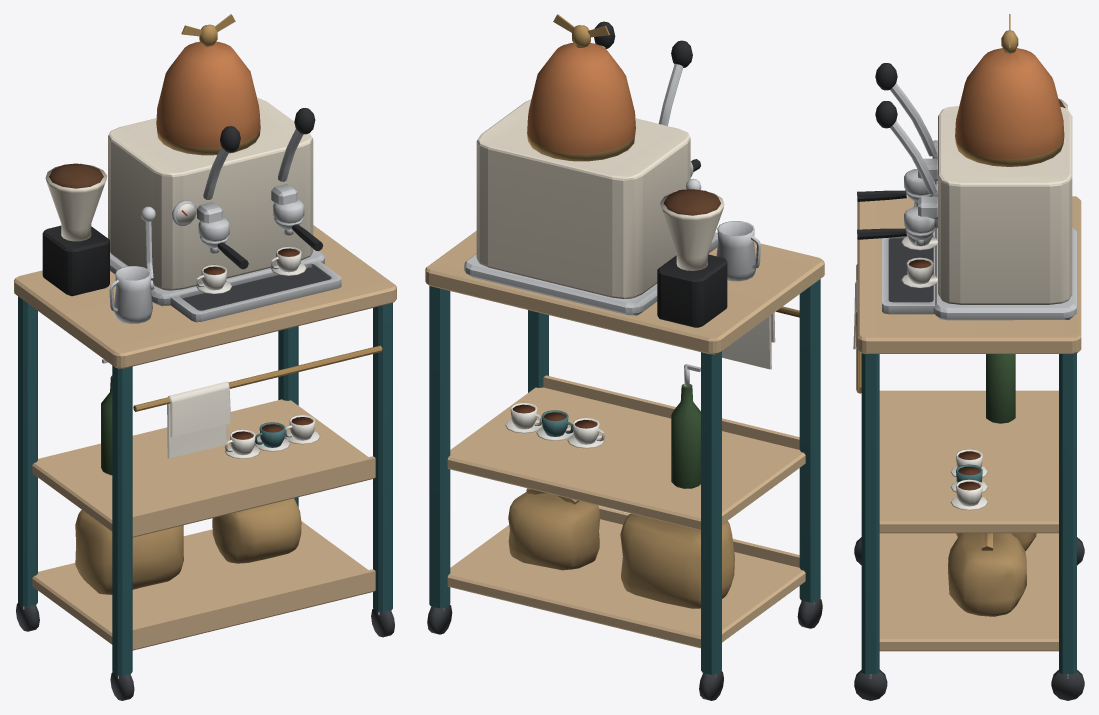
The model's file is espressoBar.glb.
3 views of the same model, side by side, from view 1: azimuth 30°, elevation 25°; view 2: azimuth 150°, elevation 25°; view 3: azimuth 270°, elevation 25° (orthographic). The views are drawn at different scales.
Visible parts, largest first — view 1: body; view 2: body; view 3: body.
Boxes of the visible parts, left/top/right/bottom form: body: left=14, top=14, right=396, bottom=700; body: left=425, top=14, right=824, bottom=700; body: left=853, top=14, right=1084, bottom=700.
Size of the model in its own units: 0.76 by 1.52 by 0.5158.
